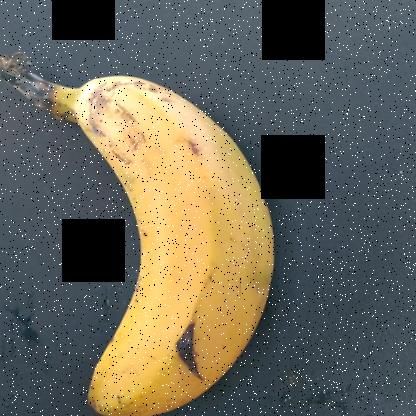ripe: (55, 64, 322, 416)
